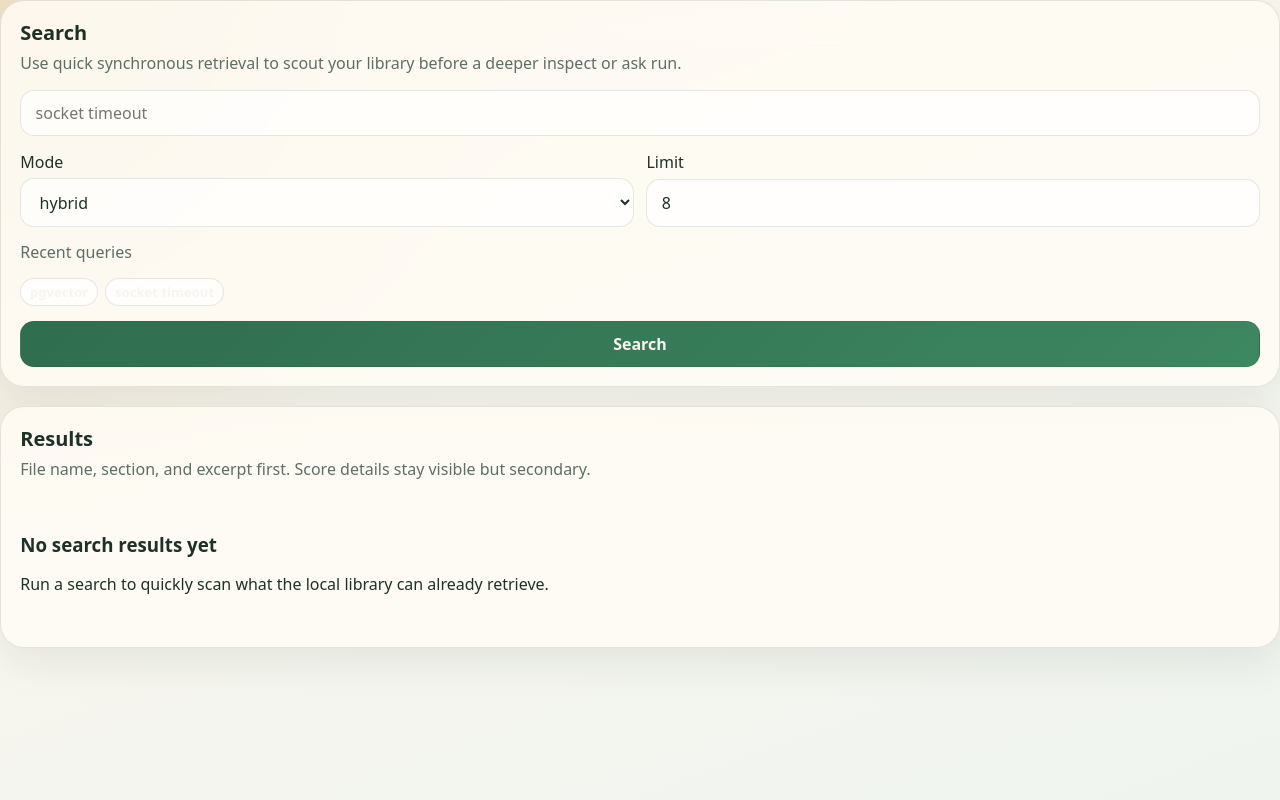
SearchPage renders recent queries and result cards
Click the button "pgvector". click: (59, 292)
box: [20, 278, 98, 306]
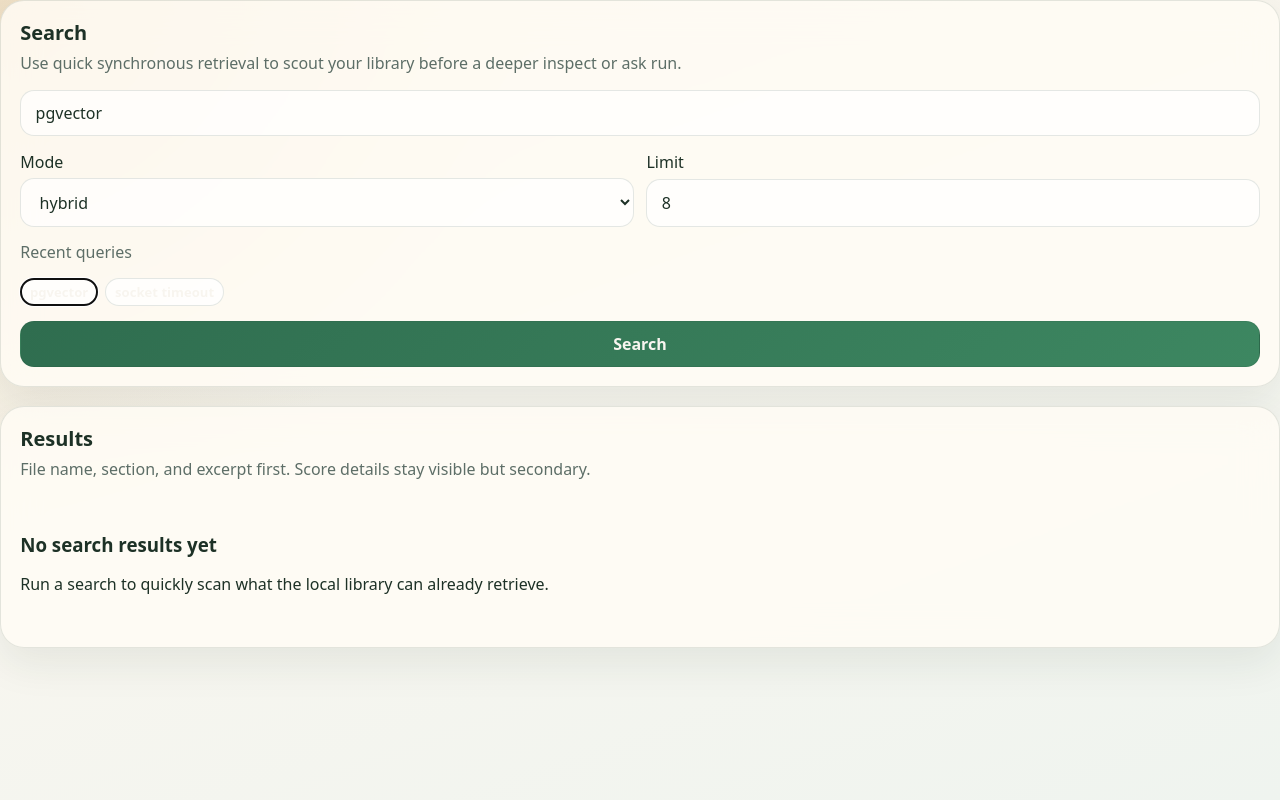
Click the button "Search". click: (640, 344)
box: [20, 321, 1260, 367]
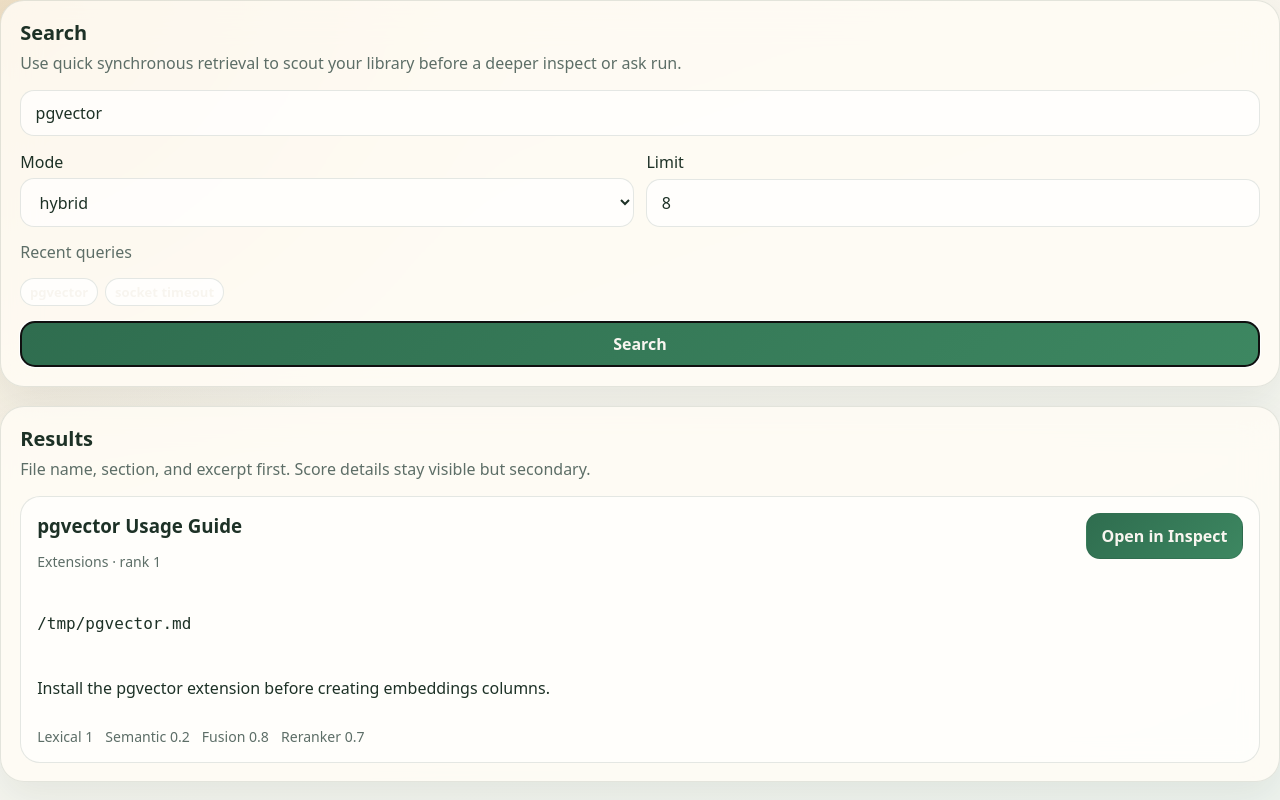
Result: the heading "pgvector Usage Guide" is shown at [37, 513, 242, 538]
Result: the text "Install the pgvector extension before creating embeddings columns." is shown at [37, 677, 550, 699]
Result: the button "Open in Inspect" is shown at [1086, 513, 1243, 559]
